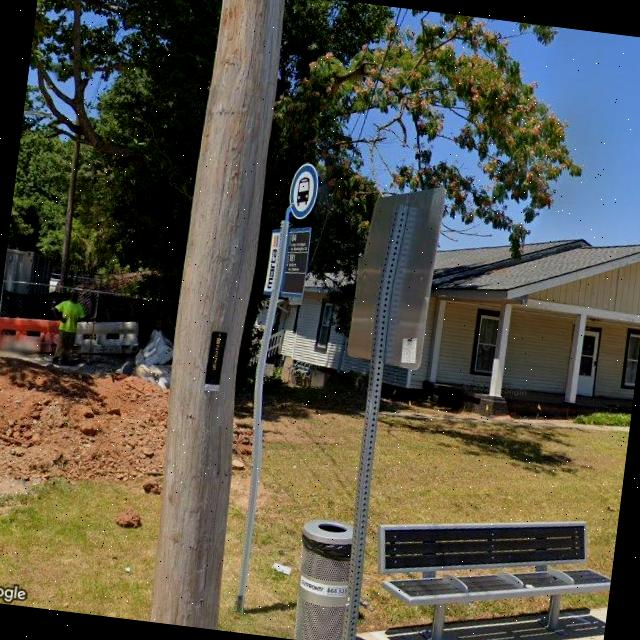seating: (359, 492, 617, 640)
trash_can: (287, 517, 360, 640)
